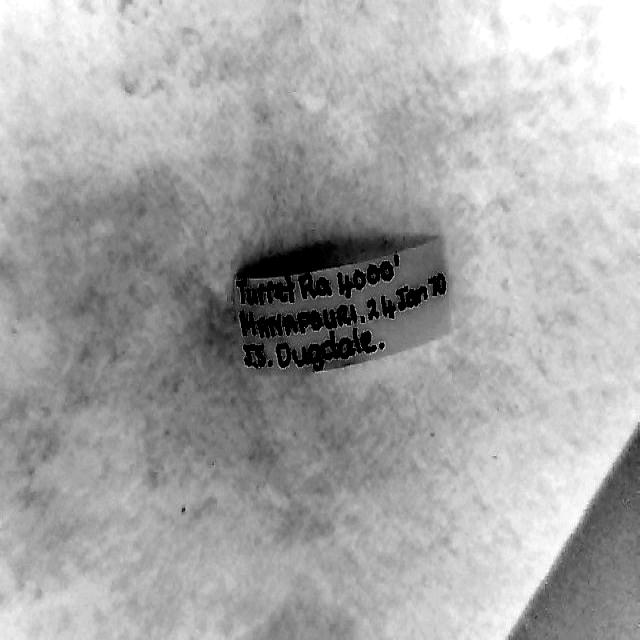hand_label: (235, 238, 449, 372)
